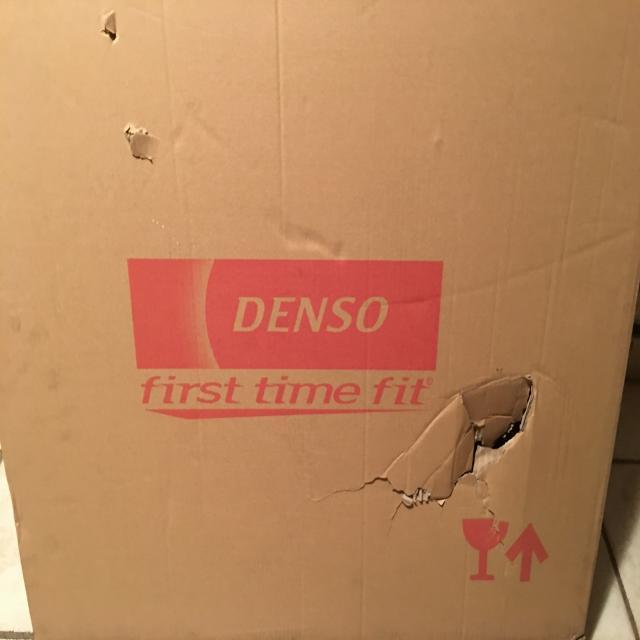hole: (373, 371, 539, 517)
